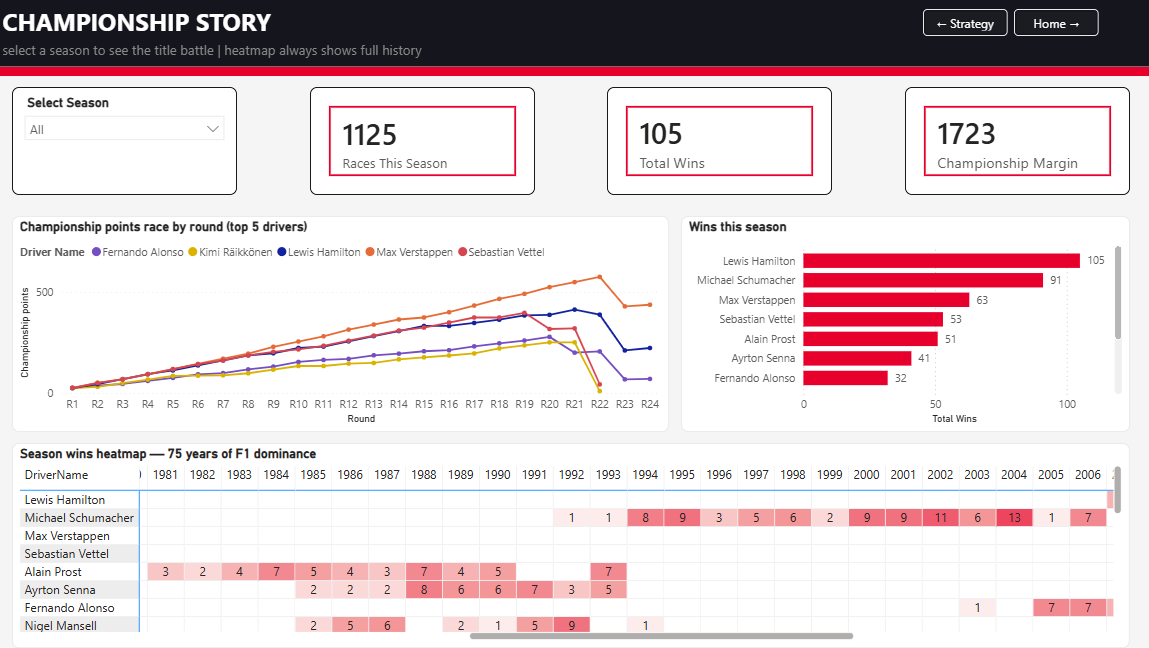

What the dashboard file says about the page in this screenshot:
{"tool":"powerbi","page":{"name":"Championship","canvas":[1280,720],"ordinal":5},"visuals":[{"type":"shape","box":[0,74,1280,10],"z":0},{"type":"textbox","box":[0,0,1280,46.7],"z":1000},{"type":"textbox","box":[0,39.9,1280,34],"z":2000},{"type":"actionButton","box":[1027.8,10,94,30],"z":3000},{"type":"actionButton","box":[1128.9,10,94.4,30],"z":4000},{"type":"slicer","fields":{"Values":["races.year"]},"box":[15.6,96.7,250,120],"z":5000},{"type":"cardVisual","fields":{"Data":["_Measures.Total Races"]},"box":[346.3,96.7,250,120],"z":6000},{"type":"cardVisual","fields":{"Data":["_Measures.Most Wins in Season"]},"box":[677,96.7,250,120],"z":7000},{"type":"cardVisual","fields":{"Data":["_Measures.Championship Margin"]},"box":[1007.8,96.7,250,120],"z":8000},{"type":"lineChart","title":"Championship points race by round (top 5 drivers)","fields":{"Category":["races.RoundLabel"],"Y":["Max(driver_standings.points)"],"Series":["drivers.DriverName"]},"box":[15.6,240,730,240],"z":9000},{"type":"clusteredBarChart","title":"Wins this season","fields":{"Category":["drivers.DriverName"],"Y":["_Measures.Total Wins"]},"box":[758.9,240,498.9,240],"z":10000},{"type":"pivotTable","title":"Season wins heatmap — 75 years of F1 dominance","fields":{"Rows":["drivers.DriverName"],"Columns":["races.year"],"Values":["_Measures.Total Wins"]},"box":[15.6,492.2,1242.2,227.8],"z":11000}]}

Visuals, with their boxes in screenshot pixels (x1, y1, x2, y2), scaled from the page's 1280x720 canvas onto the 1149x648 screenshot:
shape: pyautogui.locateOnScreen(0, 67, 1148, 76)
textbox: pyautogui.locateOnScreen(0, 0, 1148, 42)
textbox: pyautogui.locateOnScreen(0, 36, 1148, 67)
actionButton: pyautogui.locateOnScreen(923, 9, 1007, 36)
actionButton: pyautogui.locateOnScreen(1013, 9, 1098, 36)
slicer - races.year: pyautogui.locateOnScreen(14, 87, 238, 195)
cardVisual - _Measures.Total Races: pyautogui.locateOnScreen(311, 87, 535, 195)
cardVisual - _Measures.Most Wins in Season: pyautogui.locateOnScreen(608, 87, 832, 195)
cardVisual - _Measures.Championship Margin: pyautogui.locateOnScreen(905, 87, 1129, 195)
"Championship points race by round (top 5 drivers)" lineChart: pyautogui.locateOnScreen(14, 216, 669, 432)
"Wins this season" clusteredBarChart: pyautogui.locateOnScreen(681, 216, 1129, 432)
"Season wins heatmap — 75 years of F1 dominance" pivotTable: pyautogui.locateOnScreen(14, 443, 1129, 647)
